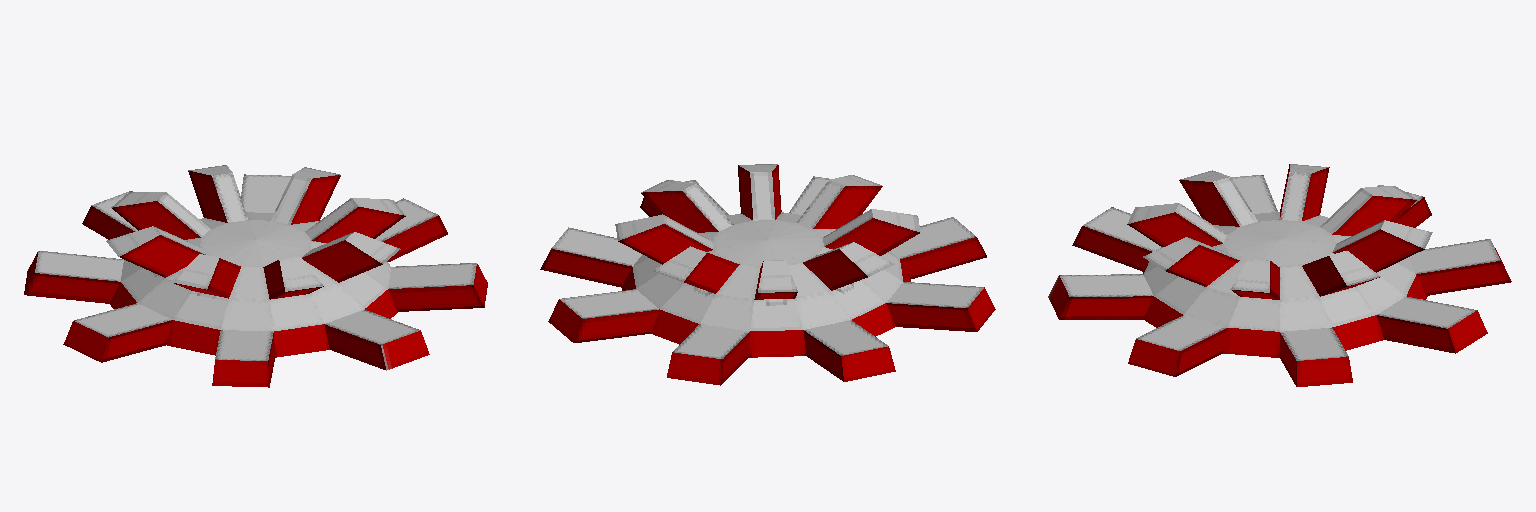
The picture shows the model from 3 angles: view 1: azimuth 30°, elevation 25°; view 2: azimuth 150°, elevation 25°; view 3: azimuth 270°, elevation 25°; orthographic projection.
Parts seen in each view (by area): view 1: Sphere001.006; view 2: Sphere001.006; view 3: Sphere001.006.
Part boxes in pixels (x1,y1,x2,y2): Sphere001.006: (24, 165, 487, 387); Sphere001.006: (540, 164, 995, 385); Sphere001.006: (1048, 164, 1511, 386).
Size of the model in its own units: 10.07 by 1.91 by 10.07.
1 materials, 1 textured.